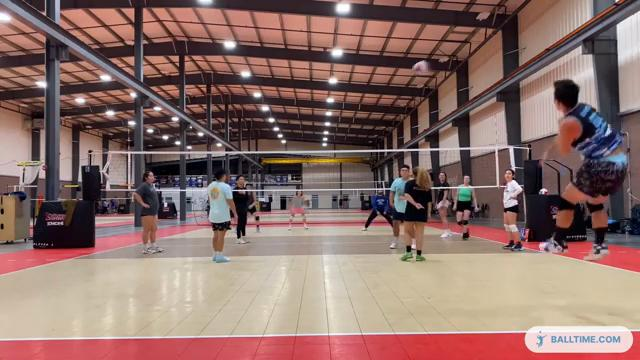Player: (207, 169, 237, 262), (401, 167, 431, 260), (133, 171, 163, 253), (389, 164, 410, 248), (453, 175, 478, 239), (503, 169, 522, 250), (362, 189, 392, 230), (233, 176, 250, 243), (436, 172, 451, 237), (288, 190, 308, 229), (248, 191, 259, 232)
Serve: (536, 76, 630, 265)
ball: (413, 61, 429, 76)
